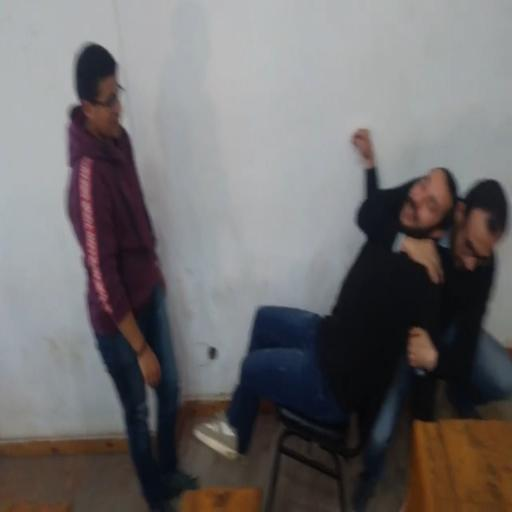violencia: (184, 80, 512, 475)
